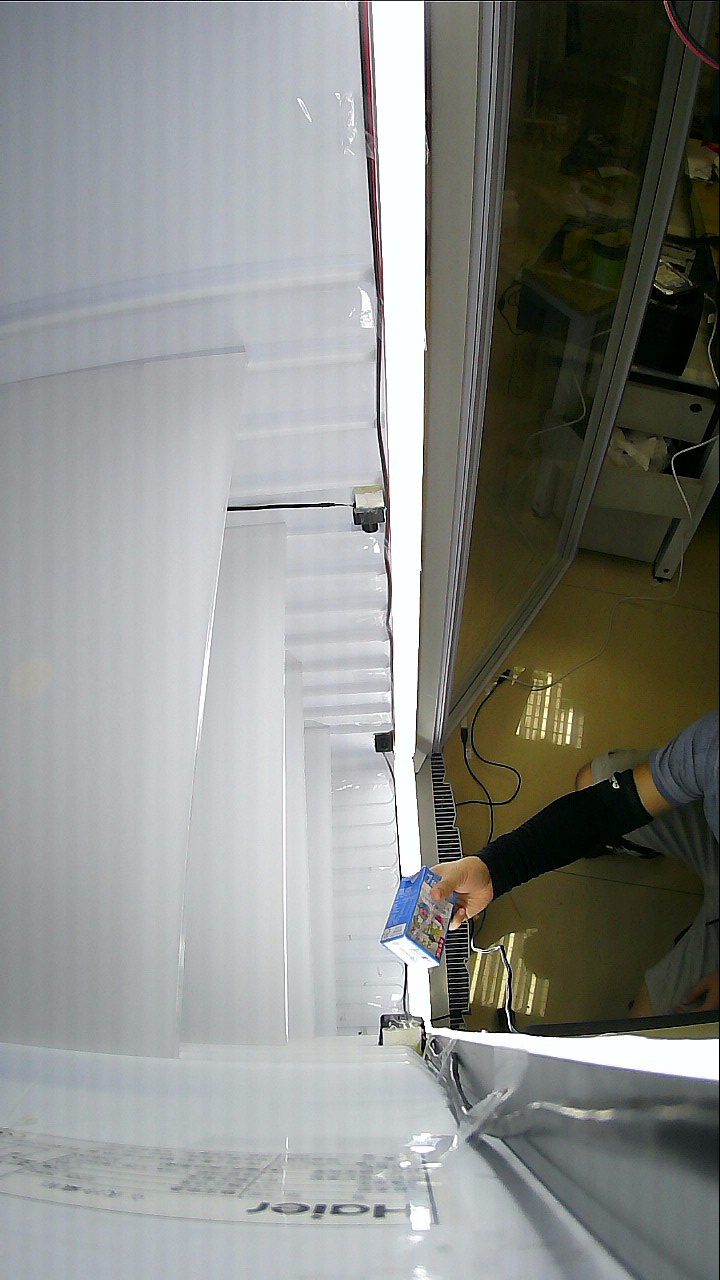VitaSoyOriginal: (385, 857, 518, 968)
